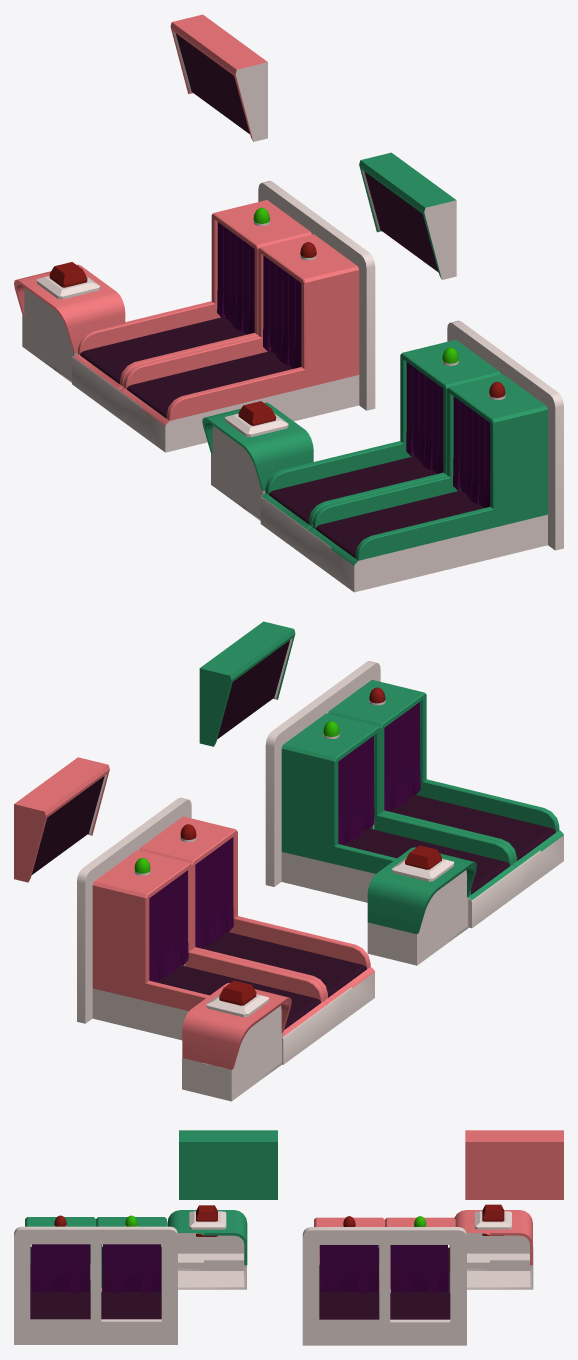
The model's file is WashingWrapperModel01.fbx.
3 renders of one model, top to bottom at view 1: azimuth 30°, elevation 25°; view 2: azimuth 150°, elevation 25°; view 3: azimuth 270°, elevation 25°, orthographic. The views are drawn at different scales.
Parts seen in each view (by area): view 1: Washing_MachineAnim, Wrapper_MachineAnim, TV, TV.001, Table, Table.001, Wrapper_Gorden2, Wrapper_Gorden1, Washing_Gorden2, Washing_Gorden1, Wrapper_Button; view 2: Washing_MachineAnim, Wrapper_MachineAnim, Table, Table.001, TV, TV.001, Wrapper_Gorden1, Wrapper_Gorden2, Washing_Gorden2, Washing_Gorden1, Wrapper_Button, Washing_Button; view 3: Wrapper_MachineAnim, Washing_MachineAnim, TV, TV.001, Table, Table.001, Washing_Gorden1, Washing_Gorden2, Wrapper_Gorden2, Wrapper_Gorden1, Wrapper_Button, Washing_Button.
Part boxes in pixels (bbox=[...]): Washing_MachineAnim: bbox=[260, 320, 563, 592]; Wrapper_MachineAnim: bbox=[72, 181, 375, 452]; TV: bbox=[359, 152, 456, 279]; TV.001: bbox=[170, 14, 267, 141]; Table: bbox=[202, 402, 313, 520]; Table.001: bbox=[14, 264, 125, 382]; Wrapper_Gorden2: bbox=[263, 255, 301, 368]; Wrapper_Gorden1: bbox=[217, 222, 254, 334]; Washing_Gorden2: bbox=[453, 396, 490, 507]; Washing_Gorden1: bbox=[406, 362, 443, 473]; Wrapper_Button: bbox=[49, 262, 87, 287]; Washing_MachineAnim: bbox=[265, 661, 563, 928]; Wrapper_MachineAnim: bbox=[77, 797, 374, 1064]; Table: bbox=[367, 847, 476, 965]; Table.001: bbox=[182, 983, 291, 1101]; TV: bbox=[199, 621, 295, 746]; TV.001: bbox=[14, 757, 109, 882]; Wrapper_Gorden1: bbox=[149, 870, 188, 982]; Wrapper_Gorden2: bbox=[195, 837, 233, 948]; Washing_Gorden2: bbox=[384, 702, 420, 811]; Washing_Gorden1: bbox=[338, 736, 374, 845]; Wrapper_Button: bbox=[219, 980, 256, 1005]; Washing_Button: bbox=[405, 845, 441, 869]; Wrapper_MachineAnim: bbox=[302, 1216, 466, 1345]; Washing_MachineAnim: bbox=[14, 1215, 177, 1344]; TV: bbox=[179, 1130, 277, 1199]; TV.001: bbox=[465, 1130, 563, 1199]; Table: bbox=[167, 1210, 247, 1289]; Table.001: bbox=[454, 1210, 533, 1289]; Washing_Gorden1: bbox=[102, 1244, 161, 1292]; Washing_Gorden2: bbox=[31, 1244, 89, 1292]; Wrapper_Gorden2: bbox=[320, 1245, 378, 1292]; Wrapper_Gorden1: bbox=[390, 1245, 447, 1292]; Wrapper_Button: bbox=[482, 1204, 504, 1235]; Washing_Button: bbox=[196, 1205, 217, 1236].
Size of the model in its own units: 9.48 by 11.42 by 27.97.
